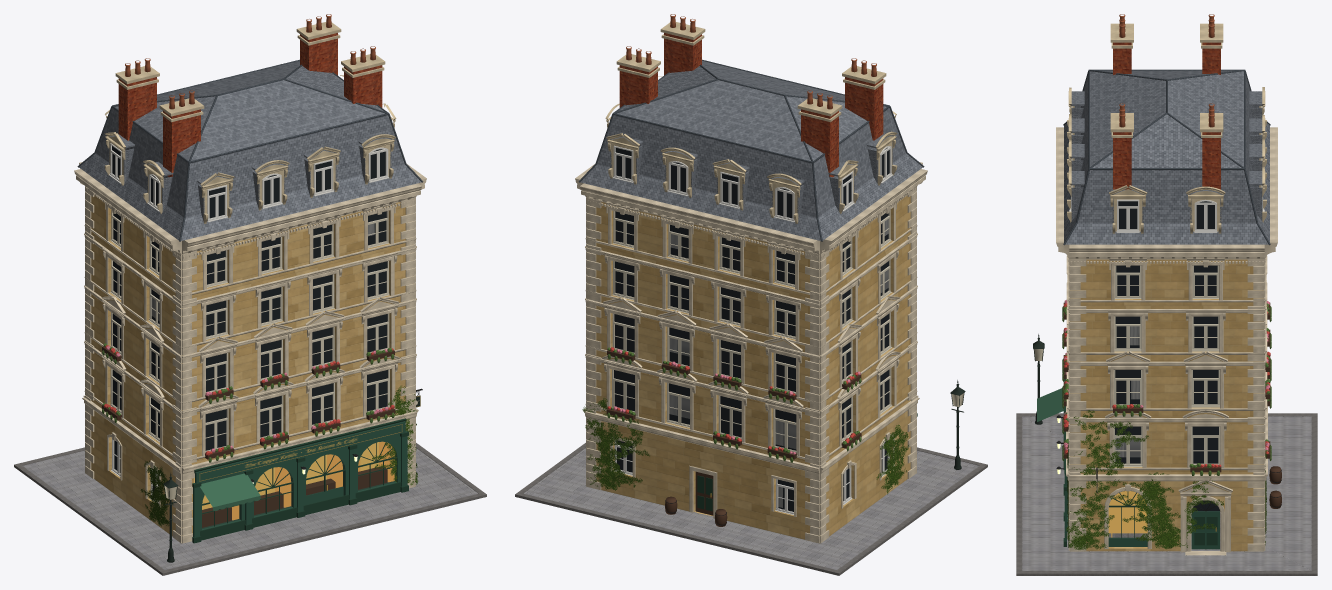
File: copper_kettle.glb
3 views of the same model, side by side, from view 1: azimuth 30°, elevation 25°; view 2: azimuth 150°, elevation 25°; view 3: azimuth 270°, elevation 25° (orthographic).
Parts seen in each view (by area): view 1: stone (×3), ashlar (×2), slate, slabs, glass (×3), frameCream (×2), chimney, trimGreen, trimGreenDark, shopGlassWarm, kerb, shopWarm (+10 smaller); view 2: stone (×3), ashlar (×2), slate, slabs, glass (×3), frameCream (×2), chimney, glassLit, kerb, ivy, frame, zinc (+4 smaller); view 3: stone (×4), slate, ashlar, slabs, ivy, glass (×2), kerb, frameCream, chimney, zinc, glassLit2, shopWarm (+9 smaller).
Part boxes in pixels (left/top/right/bottom): stone (×3): left=74, top=22, right=421, bottom=543; ashlar (×2): left=91, top=195, right=406, bottom=535; slate: left=79, top=61, right=421, bottom=240; slabs: left=22, top=448, right=478, bottom=569; glass (×3): left=112, top=146, right=387, bottom=492; frameCream (×2): left=110, top=210, right=389, bottom=451; chimney: left=118, top=33, right=382, bottom=177; trimGreen: left=193, top=421, right=407, bottom=537; trimGreenDark: left=192, top=418, right=408, bottom=543; shopGlassWarm: left=202, top=442, right=395, bottom=528; kerb: left=14, top=443, right=486, bottom=575; shopWarm: left=194, top=441, right=394, bottom=520; stone (×3): left=580, top=22, right=927, bottom=543; ashlar (×2): left=595, top=195, right=910, bottom=539; slate: left=580, top=61, right=922, bottom=240; slabs: left=523, top=448, right=979, bottom=569; glass (×3): left=614, top=148, right=889, bottom=500; frameCream (×2): left=612, top=210, right=892, bottom=452; chimney: left=619, top=33, right=883, bottom=177; glassLit: left=614, top=287, right=795, bottom=511; kerb: left=515, top=443, right=987, bottom=575; ivy: left=582, top=398, right=909, bottom=494; frame: left=613, top=145, right=892, bottom=222; zinc: left=578, top=59, right=924, bottom=241; stone (×4): left=1056, top=23, right=1277, bottom=555; slate: left=1064, top=70, right=1269, bottom=244; ashlar: left=1070, top=259, right=1263, bottom=551; slabs: left=1022, top=416, right=1311, bottom=570; ivy: left=1066, top=410, right=1266, bottom=549; glass (×2): left=1115, top=201, right=1219, bottom=511; kerb: left=1016, top=413, right=1317, bottom=575; frameCream: left=1113, top=265, right=1220, bottom=466; chimney: left=1113, top=42, right=1220, bottom=189; zinc: left=1063, top=69, right=1270, bottom=245; glassLit2: left=1115, top=316, right=1218, bottom=463; shopWarm: left=1108, top=491, right=1147, bottom=533.
Size of what is drawn, in the model's own units: 19.5 by 24.52 by 15.5.
39 materials, 18 textured.
